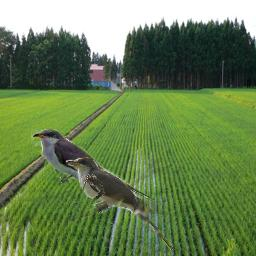Cuckoo: (65, 157, 173, 250), (31, 129, 154, 203)
